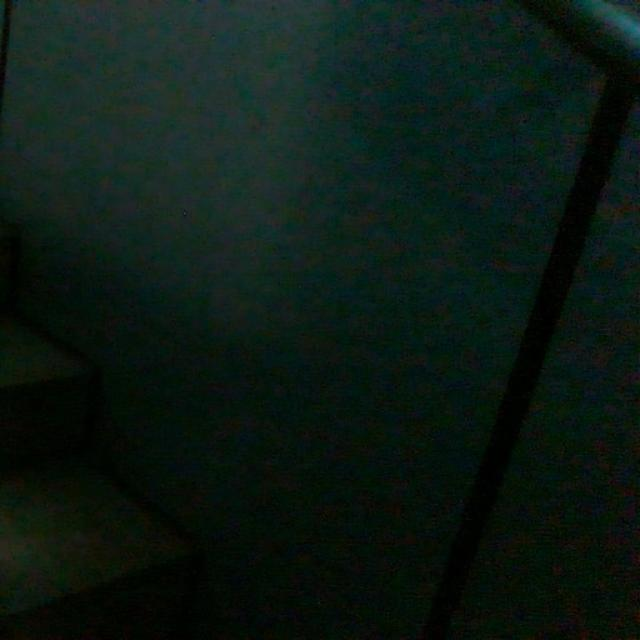stair: (0, 315, 161, 619)
